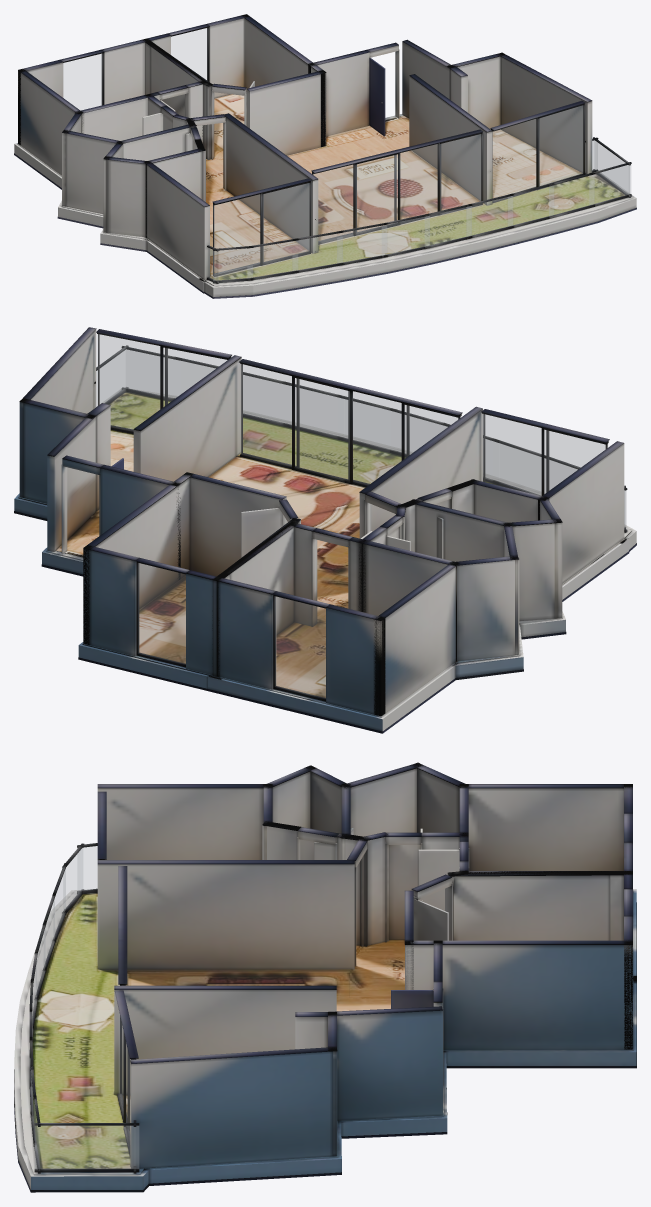
3 renders of one model, top to bottom at view 1: azimuth 30°, elevation 25°; view 2: azimuth 150°, elevation 25°; view 3: azimuth 270°, elevation 25°, orthographic. The views are drawn at different scales.
Visible parts, largest first — view 1: plan, glass2_m, glass3_m, glass4_m, glass0_m, railg12_m, railg11_m, railg10_m, railg9_m, railg8_m, railg4_m, railg6_m (+5 smaller); view 2: plan, glass2_m, glass3_m, glass4_m, glass0_m, glass1_m, railg11_m, railg8_m, railg4_m, railg7_m, railg5_m, railg0_m (+2 smaller); view 3: plan, railg0_m, railg14_m, railg13_m, glass3_m.
Boxes of the visible parts, x1,y1,x2,y2 form: plan: (14, 14, 636, 298); glass2_m: (313, 134, 480, 241); glass3_m: (492, 105, 582, 197); glass4_m: (214, 183, 309, 272); glass0_m: (63, 54, 102, 110); railg12_m: (247, 241, 297, 278); railg11_m: (292, 233, 342, 270); railg10_m: (337, 225, 386, 263); railg9_m: (382, 216, 429, 255); railg8_m: (425, 206, 471, 246); railg4_m: (466, 196, 512, 236); railg6_m: (549, 175, 594, 216); plan: (14, 327, 636, 733); glass2_m: (241, 364, 460, 484); glass3_m: (97, 334, 226, 430); glass4_m: (483, 414, 605, 495); glass0_m: (275, 596, 325, 698); glass1_m: (138, 563, 185, 664); railg11_m: (499, 444, 540, 495); railg8_m: (344, 399, 390, 449); railg4_m: (290, 386, 337, 435); railg7_m: (243, 375, 283, 422); railg5_m: (126, 350, 173, 397); railg0_m: (96, 350, 125, 406); plan: (14, 762, 636, 1192); railg0_m: (35, 1126, 138, 1168); railg14_m: (78, 846, 97, 890); railg13_m: (64, 848, 82, 911); glass3_m: (119, 1013, 130, 1138).
Bounding box in the file's own units: 14.27 × 2.62 × 12.11.
2 materials, 1 textured.
